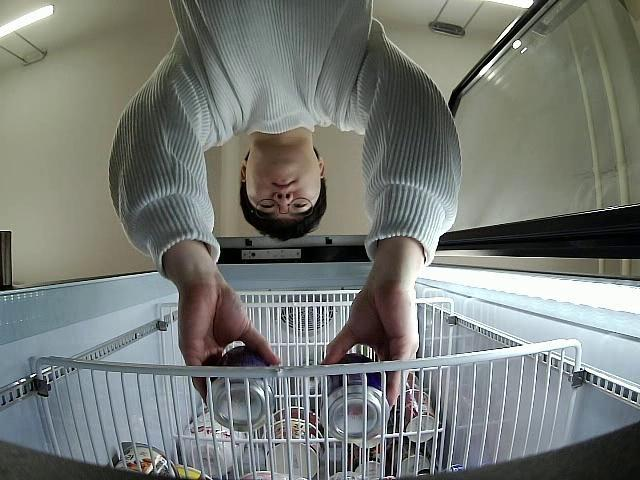14_welchsGrape: (322, 355, 389, 444), (206, 345, 276, 430)
